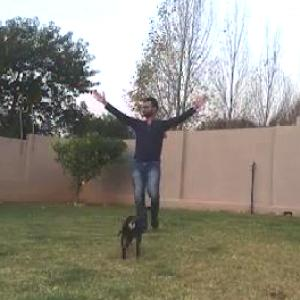takeoff: (88, 75, 222, 231)
